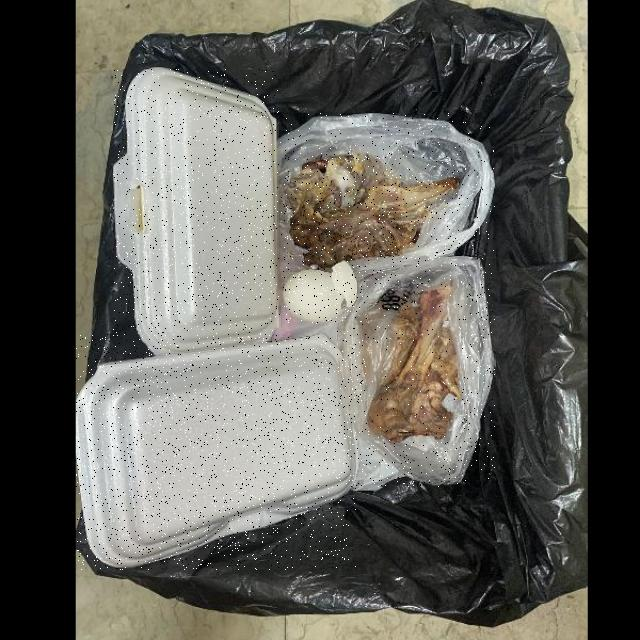biowaste: (285, 153, 459, 270), (368, 285, 462, 443), (284, 261, 357, 324)
plastic: (337, 257, 495, 487), (278, 114, 495, 274)
styrofoam: (76, 335, 356, 570), (114, 69, 280, 359)
